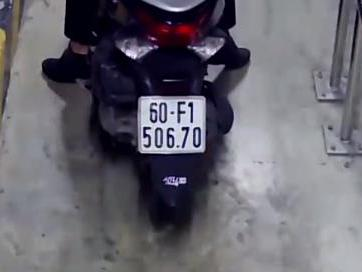num_plate: (138, 96, 209, 155)
